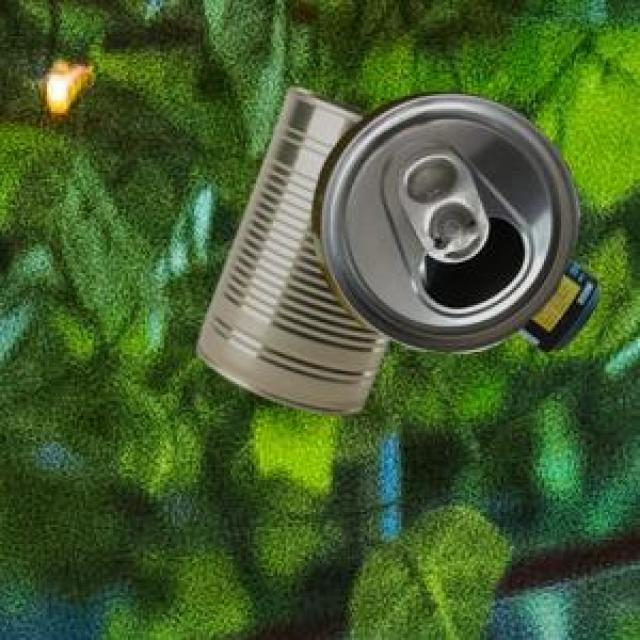logam: (310, 91, 577, 349), (195, 84, 387, 411), (515, 257, 596, 349)
